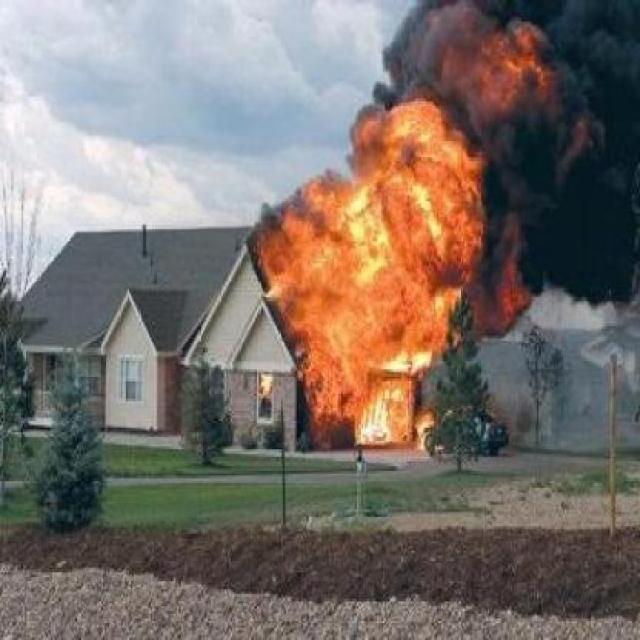Fire: (246, 99, 484, 455), (463, 27, 553, 138)
Smoke: (530, 12, 634, 360), (372, 12, 450, 89)
